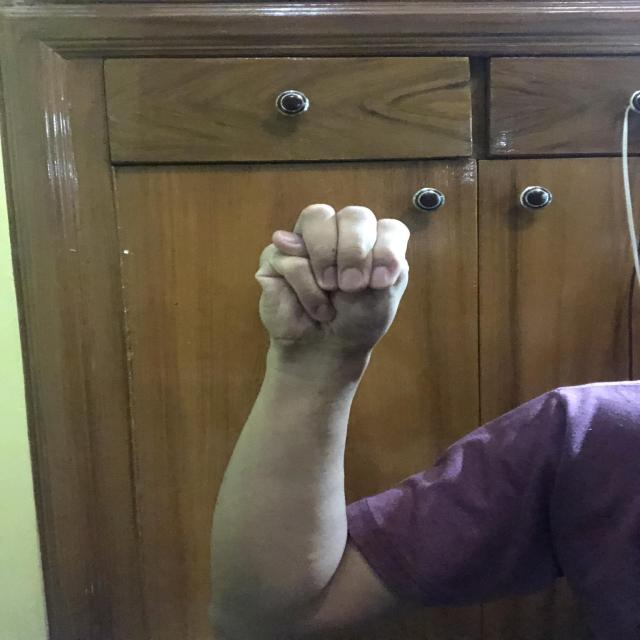M: (254, 202, 413, 357)
